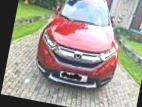car: (31, 0, 129, 94)
